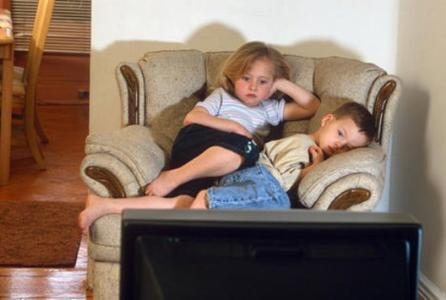person: (78, 41, 319, 234)
